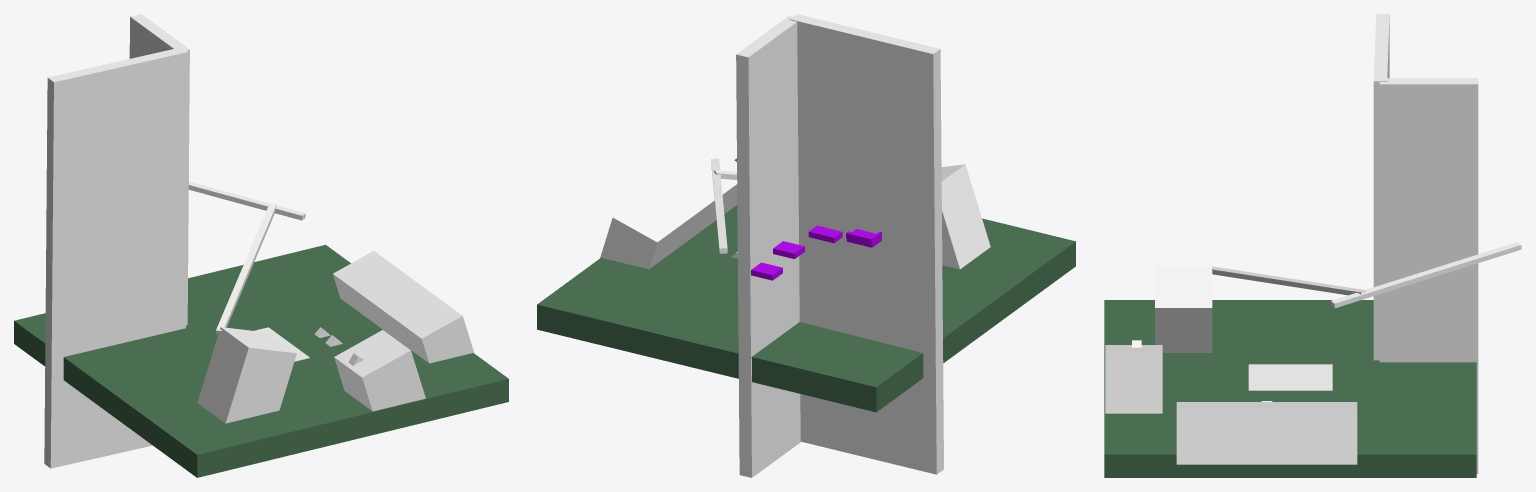
3 renders of one model, left to right at view 1: azimuth 30°, elevation 25°; view 2: azimuth 150°, elevation 25°; view 3: azimuth 270°, elevation 25°, orthographic. The views are drawn at different scales.
Parts seen in each view (by area): view 1: Box (×8); view 2: Box (×6); view 3: Box (×9).
Part boxes in pixels (left/top/right/bottom): Box (×8): left=14, top=14, right=508, bottom=477; Box (×6): left=537, top=14, right=1075, bottom=477; Box (×9): left=1104, top=14, right=1521, bottom=477.
Bounding box in the file's own units: 278 × 314 × 302.
